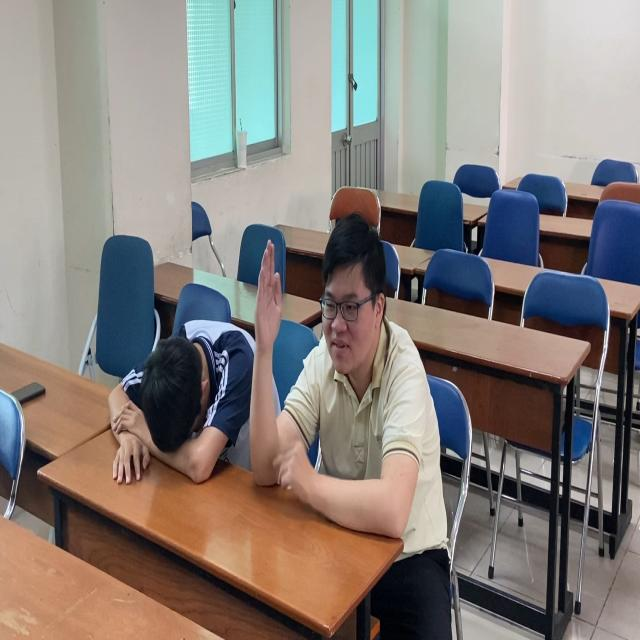raise_hand: (251, 210, 430, 551)
sleep: (104, 320, 283, 491)
